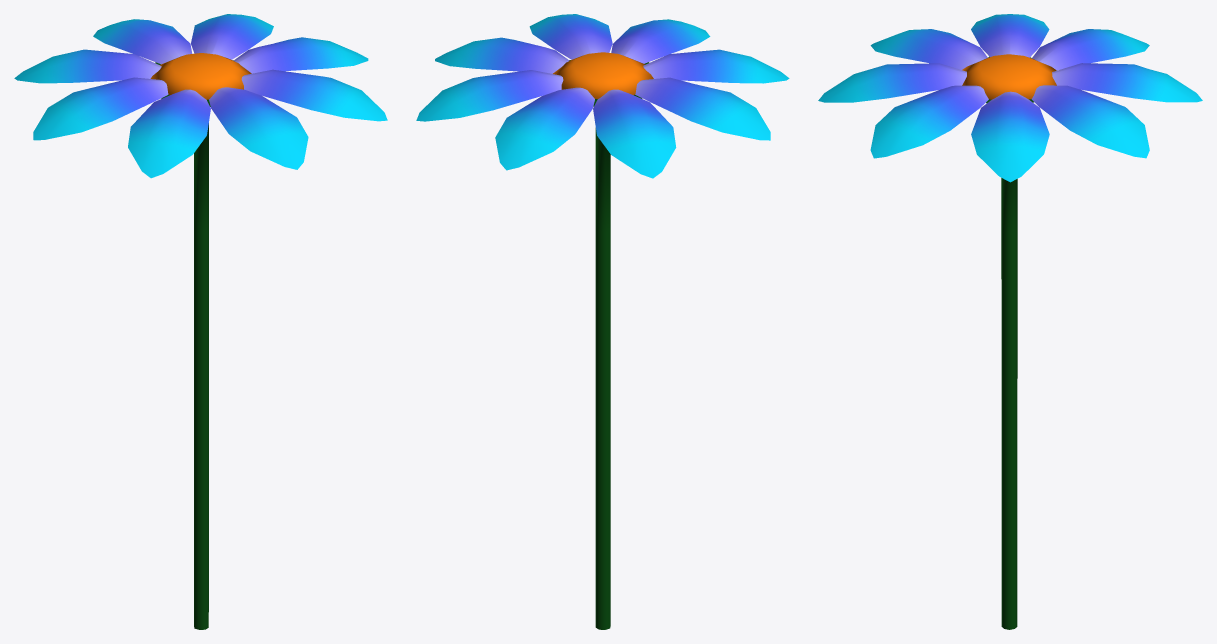
Rendered from Blue_Flower_size1.FBX.
The picture shows the model from 3 angles, left to right: view 1: azimuth 30°, elevation 25°; view 2: azimuth 150°, elevation 25°; view 3: azimuth 270°, elevation 25°; orthographic projection.
Visible parts, largest first — view 1: Blue_Flower_size1; view 2: Blue_Flower_size1; view 3: Blue_Flower_size1.
Boxes of the visible parts, x1,y1,x2,y2 form: Blue_Flower_size1: (14,14,387,629); Blue_Flower_size1: (416,14,789,629); Blue_Flower_size1: (818,14,1202,629).
Size of the model in its own units: 10.28 by 16.53 by 10.26.
